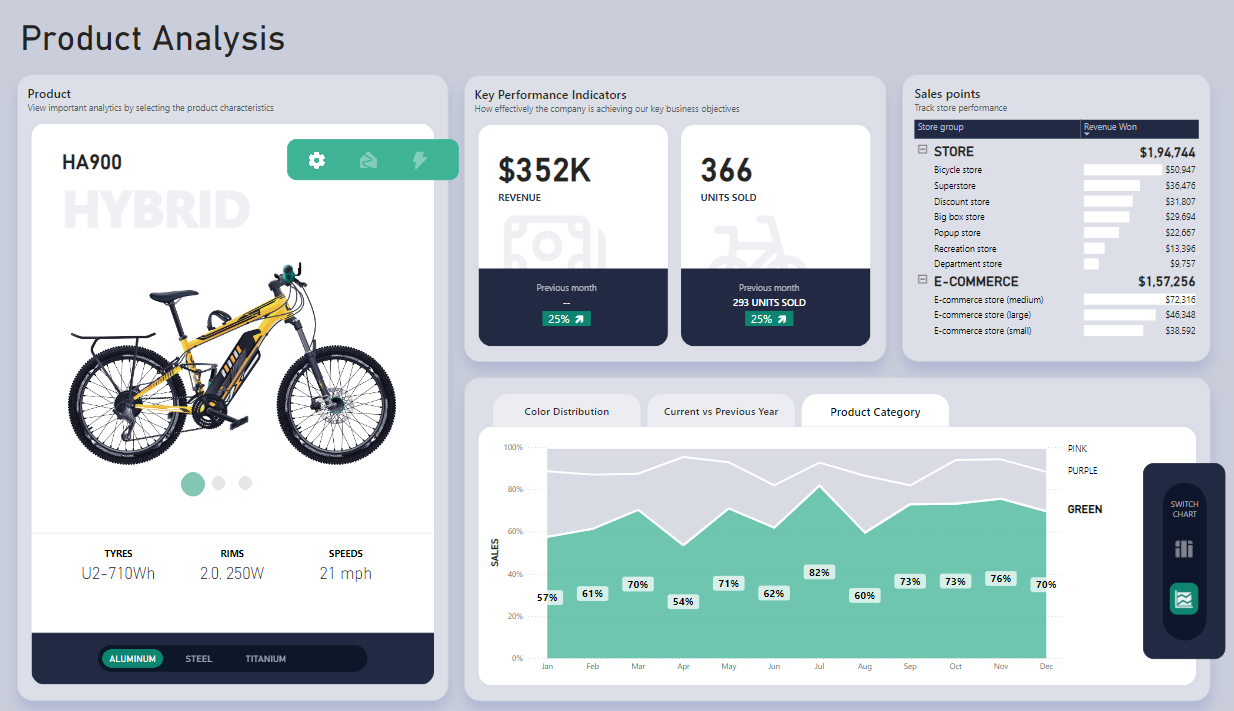

This screenshot's page, from the dashboard's own definition file:
{"tool":"powerbi","page":{"name":"Report","canvas":[1920,1230],"ordinal":0},"visuals":[{"type":"cardVisual","title":"Key Performance Indicators","fields":{"Data":["Sales Measures.Revenue Won","Sales Measures.Count of Won"]},"box":[732.1,137.4,646,440],"z":0},{"type":"actionButton","title":"Down Button ON","box":[1812.2,914.4,45.6,51.1],"z":500,"group":"g1"},{"type":"actionButton","title":"Top Gray Button OFF","box":[1812.2,838.8,45.6,51.1],"z":625,"group":"g1"},{"type":"hundredPercentStackedAreaChart","fields":{"Category":["Date.Month"],"Y":["Sales Measures.100%_blank","Sales Measures.100%_green_01 ★","Sales Measures.100%_green_02","Sales Measures.100%_green_03","Sales Measures.100%_green_04","Sales Measures.100%_pink_02","Sales Measures.100%_pink_03","Sales Measures.100%_pink_04","Sales Measures.100%_pink_01 ★","Sales Measures.100%_yellow_04","Sales Measures.100%_yellow_01 ★","Sales Measures.100%_yellow_02"]},"box":[767.1,694.4,968,367],"z":750,"group":"g1"},{"type":"cardVisual","title":"My activity","fields":{"Data":["Sales Measures.___Empty"]},"box":[732.1,600.7,1142,496],"z":1000},{"type":"cardVisual","title":"Product","fields":{"Data":["Sales Measures.___Empty"]},"box":[48.9,137.8,660,958.9],"z":2000},{"type":"group","id":"g1","title":"Color Distribution","box":[767.1,694.4,1090.7,367],"z":2000,"group":"g2"},{"type":"advancedSlicerVisual","title":"TYPE","fields":{"Values":["Products.Product Category"]},"box":[462.2,236.7,263.3,63.3],"z":3000},{"type":"advancedSlicerVisual","fields":{"Values":["Products.Color"]},"box":[290,736.7,177.8,52.2],"z":4000},{"type":"advancedSlicerVisual","fields":{"Values":["Products.Frame Type"]},"box":[172.2,1011.1,412.2,41.1],"z":5000},{"type":"bookmarkNavigator","box":[777.8,627.8,700,50],"z":6000},{"type":"pivotTable","title":"Sales points","fields":{"Rows":["Store.Store group","Store.Store Types"],"Values":["Sales Measures.Revenue Won"]},"box":[1402.2,137.7,472.2,440],"z":7000},{"type":"cardVisual","fields":{"Data":["Sales Measures.__Title2"]},"box":[49,31,660,90],"z":8000},{"type":"shape","box":[1771.1,732.2,125.6,300],"z":9000},{"type":"group","id":"g2","title":"Charts","box":[767.1,694.4,1090.7,367],"z":10000}]}

Visuals, with their boxes on the page's 1920x1230 design canvas (x1, y1, x2, y2). These are canvas units, not pixel positions in the 1234x711 screenshot, which may show the page scaled, cropped or inside an application window:
"Key Performance Indicators" cardVisual: 732, 137, 1378, 577
"Down Button ON" actionButton: 1812, 914, 1858, 966
"Top Gray Button OFF" actionButton: 1812, 839, 1858, 890
hundredPercentStackedAreaChart - Date.Month x Sales Measures.100%_blank: 767, 694, 1735, 1061
"My activity" cardVisual: 732, 601, 1874, 1097
"Product" cardVisual: 49, 138, 709, 1097
"Color Distribution" group: 767, 694, 1858, 1061
"TYPE" advancedSlicerVisual: 462, 237, 726, 300
advancedSlicerVisual - Products.Color: 290, 737, 468, 789
advancedSlicerVisual - Products.Frame Type: 172, 1011, 584, 1052
bookmarkNavigator: 778, 628, 1478, 678
"Sales points" pivotTable: 1402, 138, 1874, 578
cardVisual - Sales Measures.__Title2: 49, 31, 709, 121
shape: 1771, 732, 1897, 1032
"Charts" group: 767, 694, 1858, 1061
